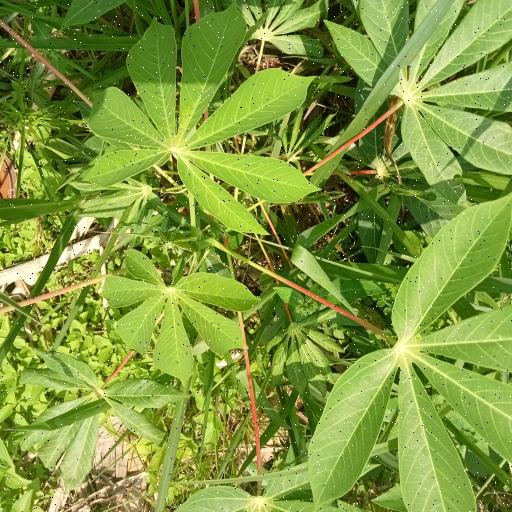Cassava_Healthy: (311, 196, 512, 510), (88, 5, 319, 228), (102, 247, 261, 383)
